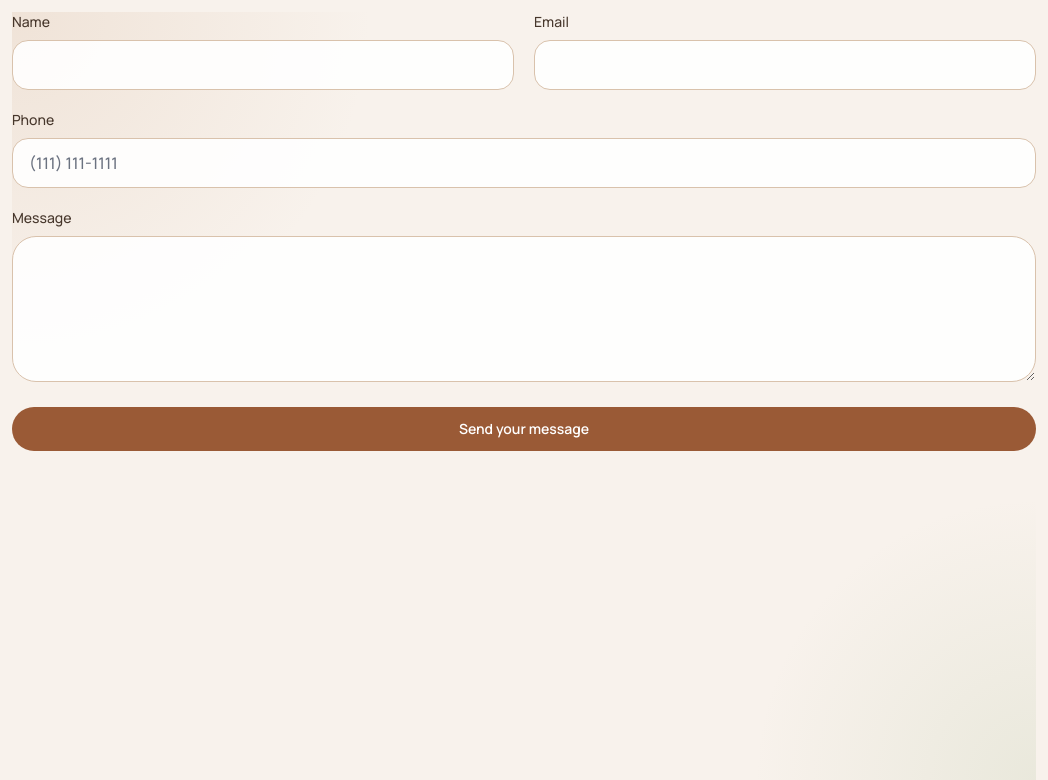
Test case: ContactInquiryForm › shows the success state after a successful submission
In the field labelled "Name": (263, 65) [12,40,514,90], type "Rachel Guest"
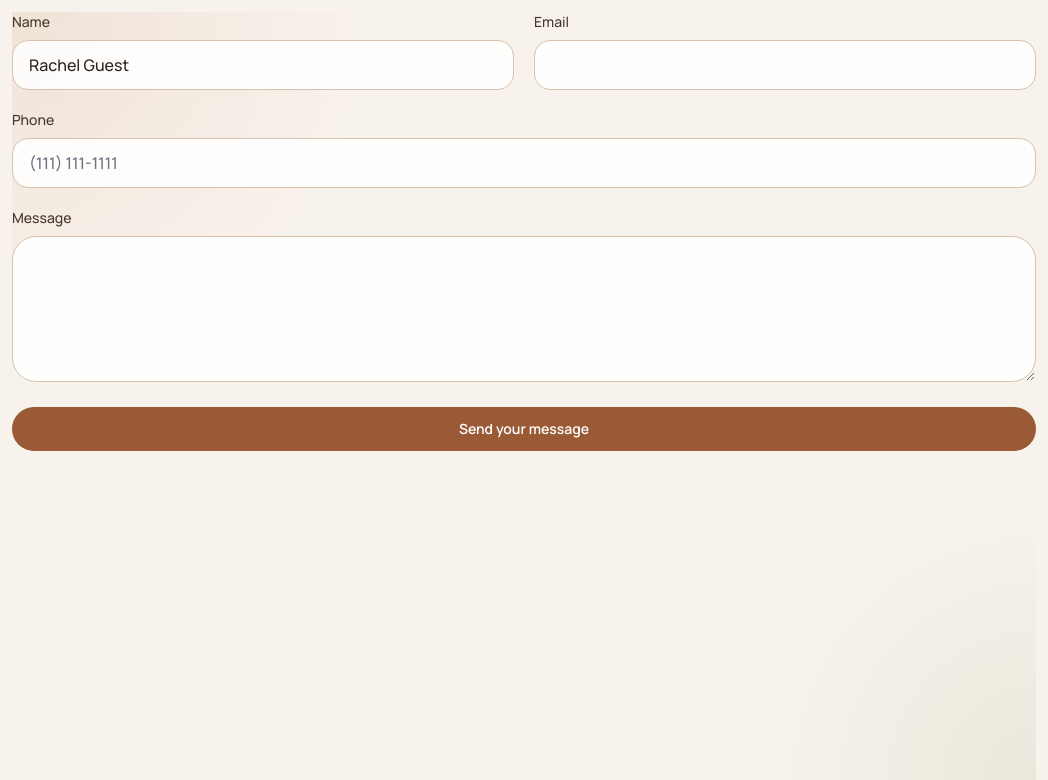
In the field labelled "Email": (785, 65) [534,40,1036,90], type "rachel@example.com"
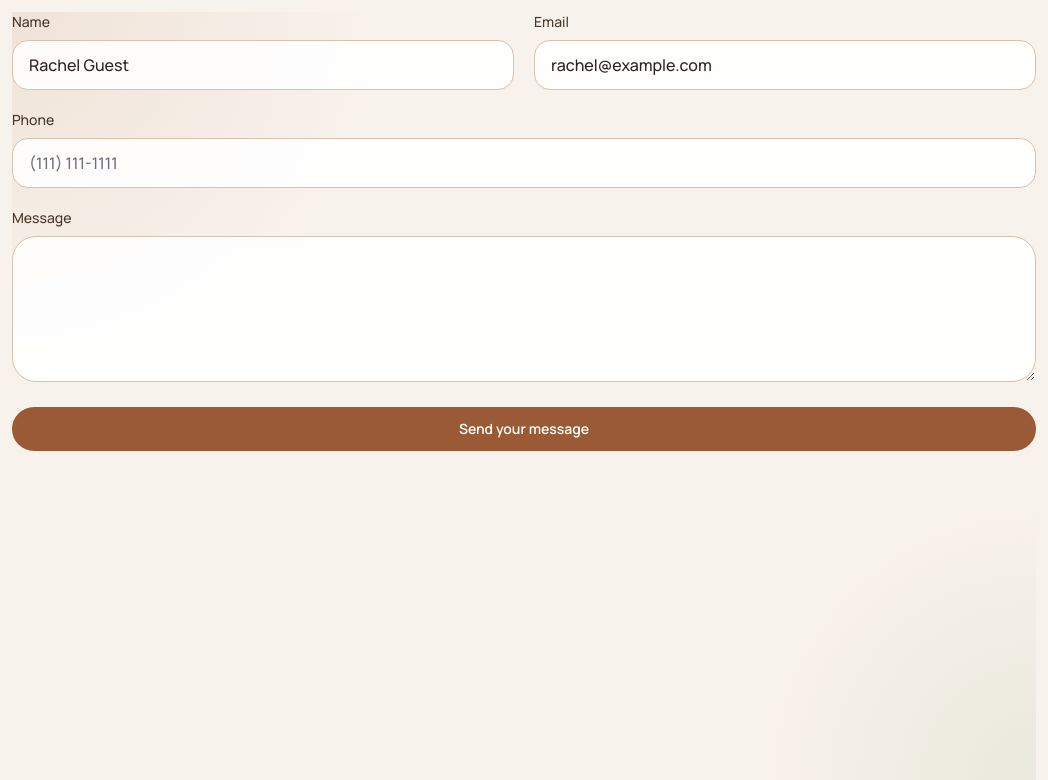
In the field labelled "Phone": (524, 163) [12,138,1036,188], type "4805551111"
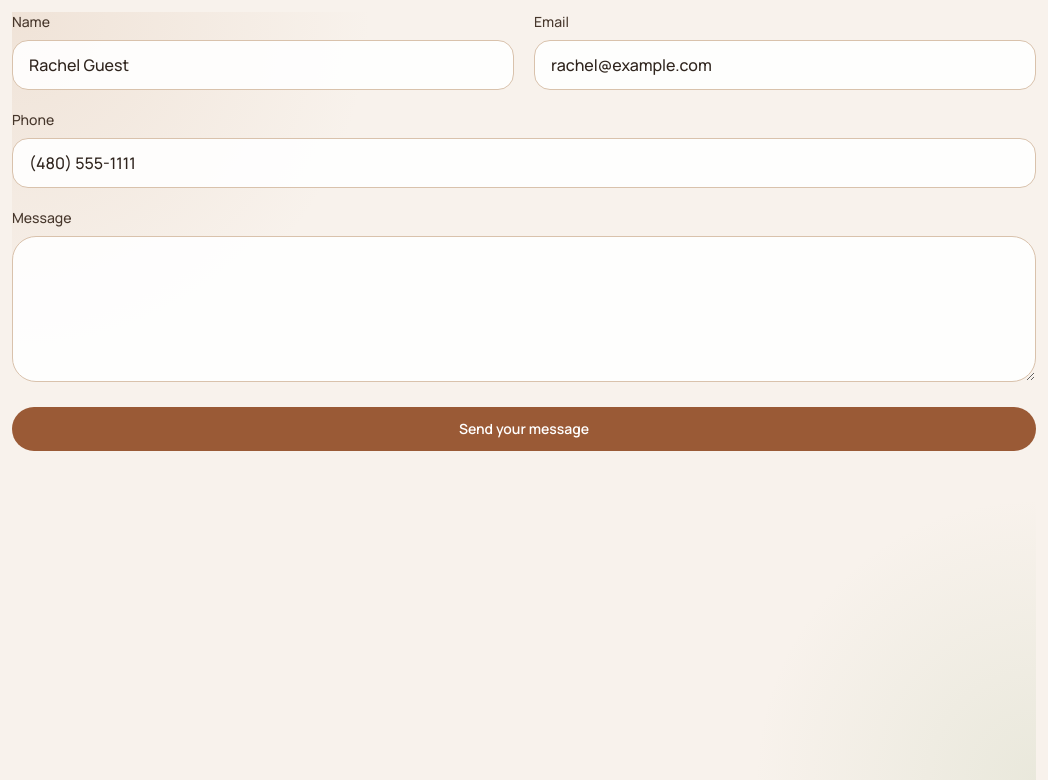
In the text box labelled "Message": (524, 309) [12,236,1036,382], type "Can you confirm the planned Shabbos setup?"
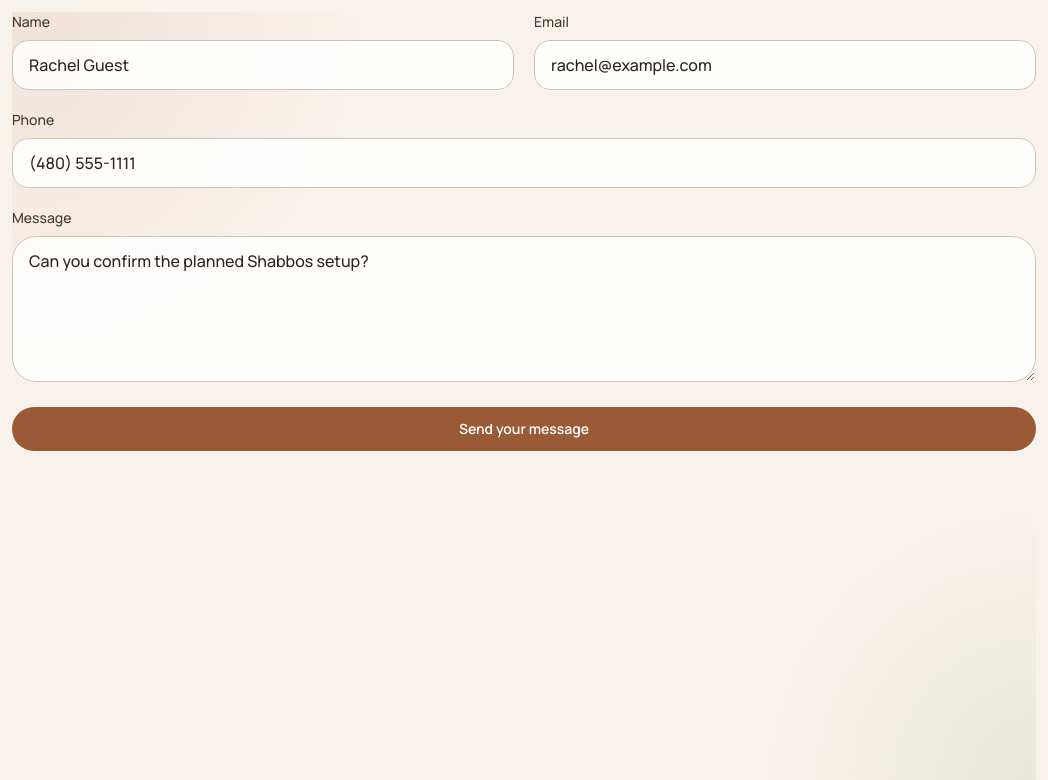
Expected: the field labelled "Phone" holds "(480) 555-1111", [12,138,1036,188]
Click the button "Send your message": click(524, 429) [12,407,1036,451]
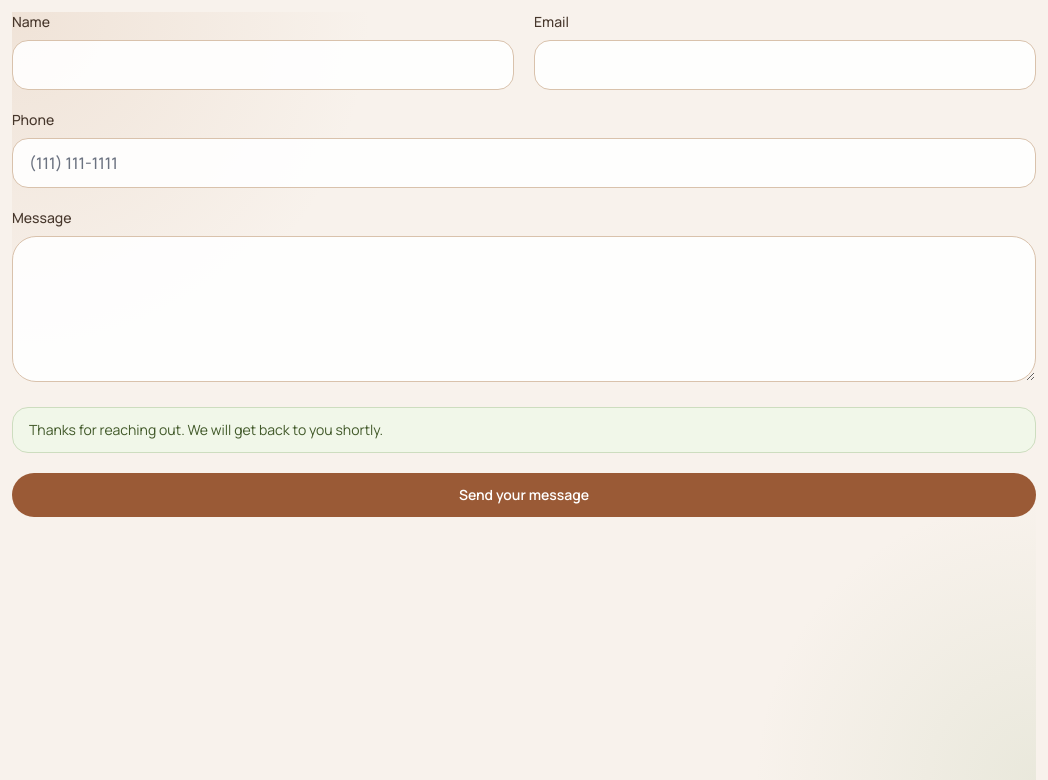
Expected: the text "Thanks for reaching out. We will get back to you shortly." is shown, [12,407,1036,453]
Expected: the field labelled "Name" is empty, [12,40,514,90]
Expected: the field labelled "Email" is empty, [534,40,1036,90]
